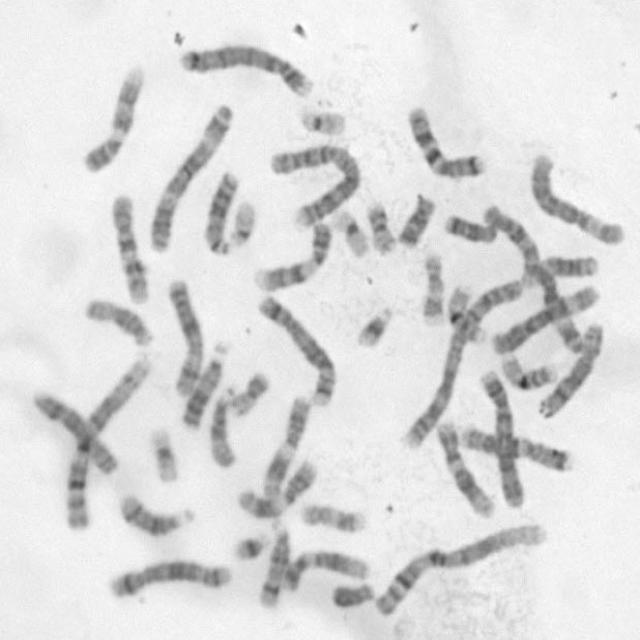A1: (369, 518, 549, 620), (59, 350, 153, 535)
A2: (397, 274, 525, 452), (264, 137, 363, 229)
A3: (144, 98, 236, 254), (524, 254, 602, 358)
B4: (176, 40, 316, 100), (475, 364, 526, 509)
B5: (255, 291, 338, 408), (106, 556, 234, 600)
C10: (478, 202, 540, 292), (107, 189, 152, 305)
C11: (258, 390, 312, 499), (232, 456, 318, 521)
C12: (433, 415, 497, 520), (278, 546, 371, 593)
C6: (526, 150, 627, 246), (488, 280, 602, 356)
C7: (402, 101, 486, 182), (457, 419, 572, 474)
C8: (29, 387, 120, 477), (533, 318, 606, 422)
C9: (78, 59, 147, 175), (250, 218, 334, 293)
D13: (176, 337, 230, 432), (200, 168, 240, 255)
D14: (115, 490, 196, 540), (255, 520, 291, 610)
D15: (82, 293, 156, 348), (206, 384, 237, 470)
E16: (443, 280, 488, 345), (498, 349, 559, 392)
E17: (297, 498, 369, 534), (416, 248, 446, 328)
E18: (394, 191, 437, 249), (439, 210, 498, 246)
F19: (143, 423, 181, 485), (329, 206, 371, 259)
F20: (228, 366, 271, 418), (363, 198, 398, 255)
G21: (353, 302, 395, 349), (230, 528, 269, 562)
G22: (294, 103, 348, 137), (226, 197, 258, 249)
X: (163, 275, 205, 398)
Y: (327, 578, 376, 609)
